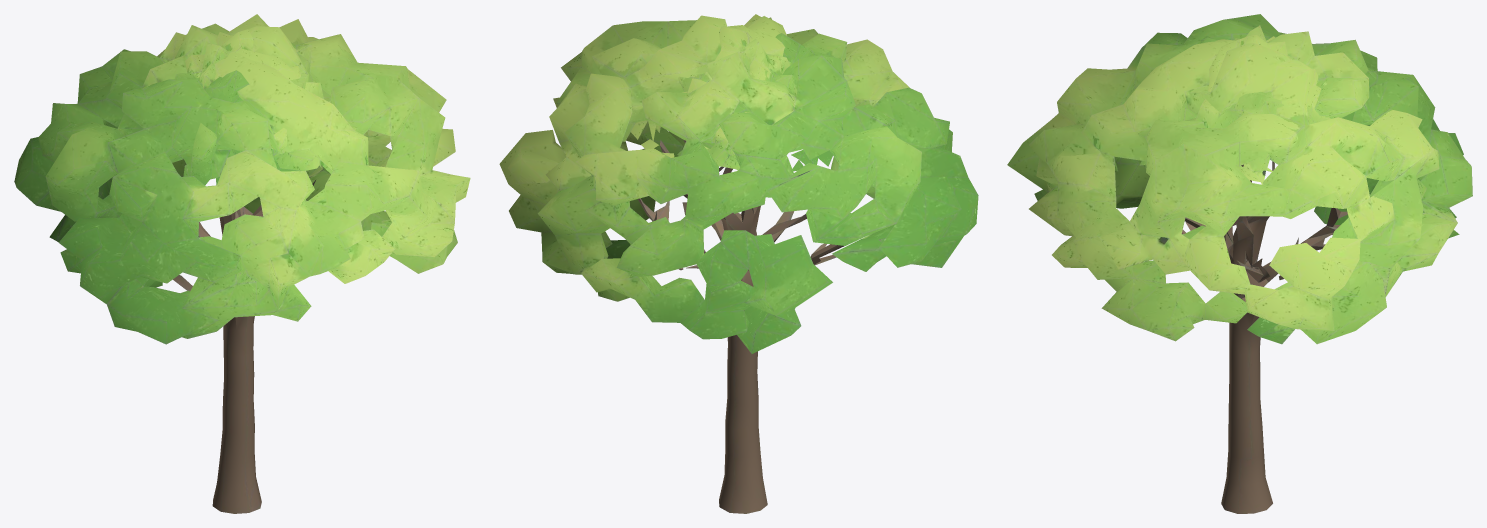
Rendered from tree_round_a.glb.
3 renders of one model, left to right at view 1: azimuth 30°, elevation 25°; view 2: azimuth 150°, elevation 25°; view 3: azimuth 270°, elevation 25°, orthographic. The views are drawn at different scales.
Parts seen in each view (by area): view 1: body; view 2: body; view 3: body.
Boxes of the visible parts, x1=… form: body: x1=14, y1=14, x2=470, y2=513; body: x1=499, y1=14, x2=978, y2=513; body: x1=1007, y1=14, x2=1472, y2=513.
Bounding box in the file's own units: 4.86 × 5.45 × 4.87.
Materials: 2 (2 with a texture image).
